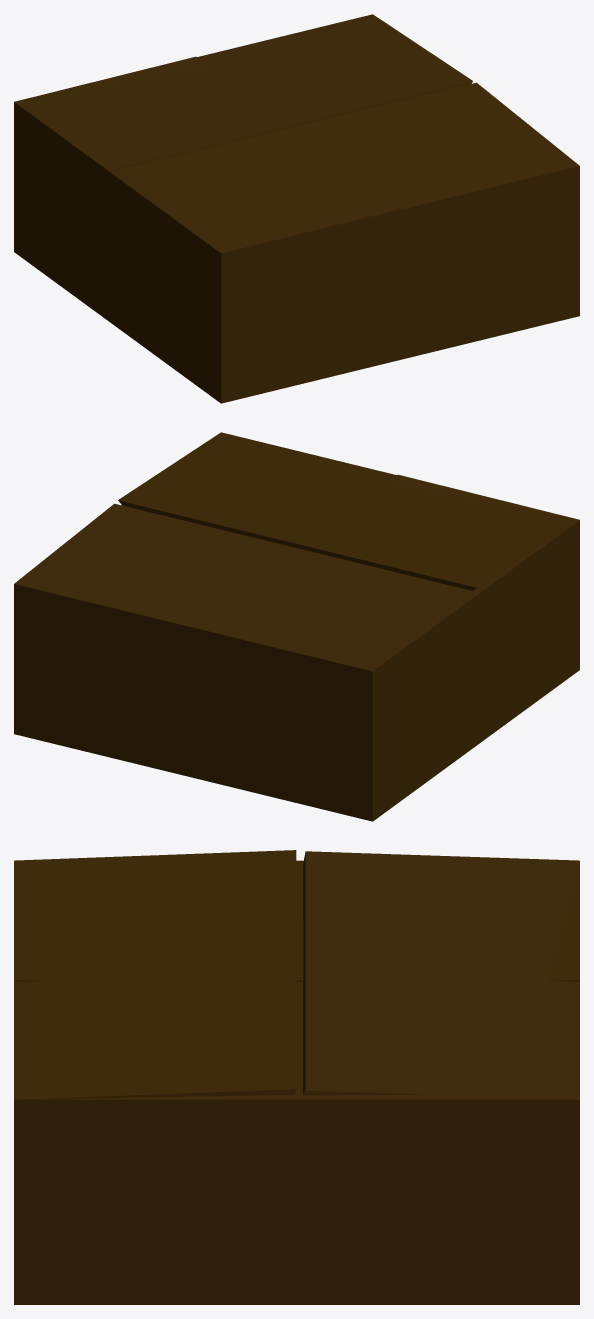
3 views of the same model, one above another, from view 1: azimuth 30°, elevation 25°; view 2: azimuth 150°, elevation 25°; view 3: azimuth 270°, elevation 25° (orthographic). The views are drawn at different scales.
Visible parts, largest first — view 1: Cube.015; view 2: Cube.015; view 3: Cube.015.
Part boxes in pixels (bbox=[...]): Cube.015: bbox=[14, 14, 579, 403]; Cube.015: bbox=[14, 432, 579, 821]; Cube.015: bbox=[14, 850, 579, 1304].
Bounding box in the file's own units: 200 × 84.09 × 200.
